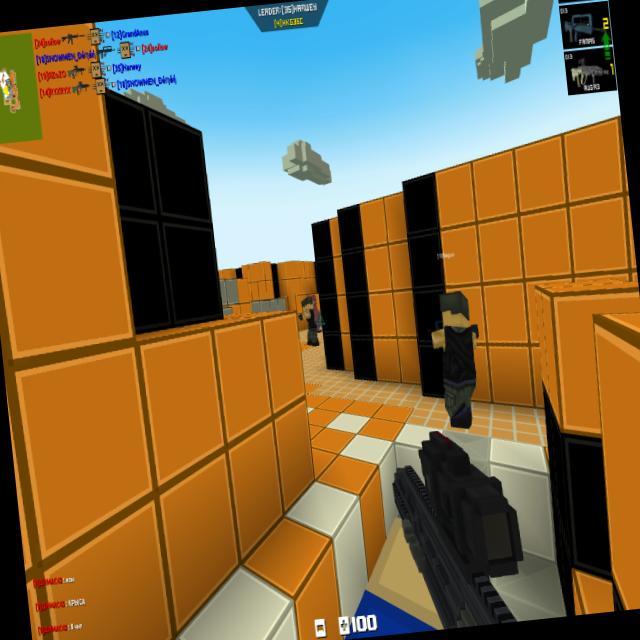enemy: (295, 295, 320, 348), (309, 292, 322, 334)
